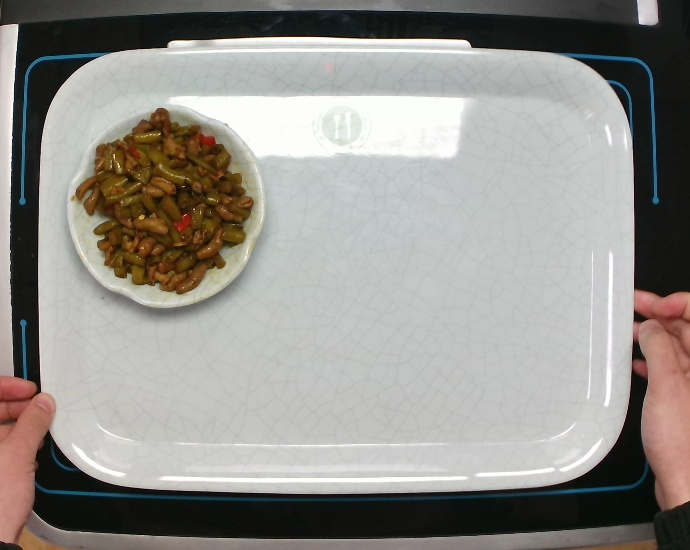JYsf-Ao_Yuan_Wan: (58, 91, 273, 309)
